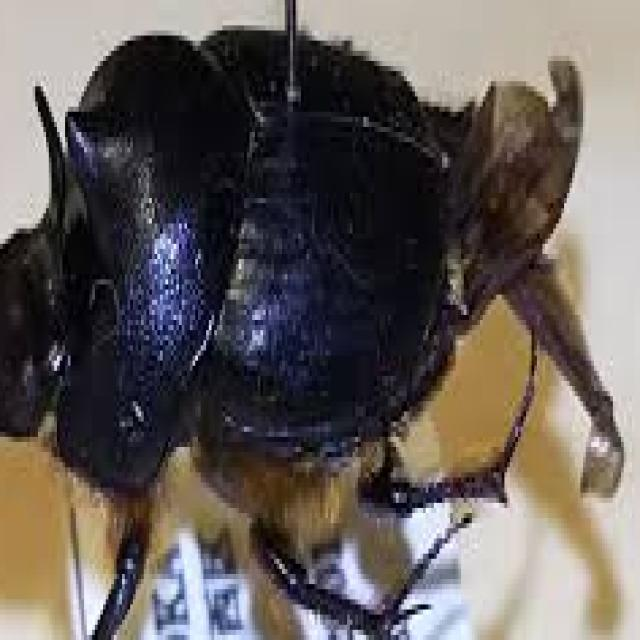inorganic: (1, 82, 629, 624)
